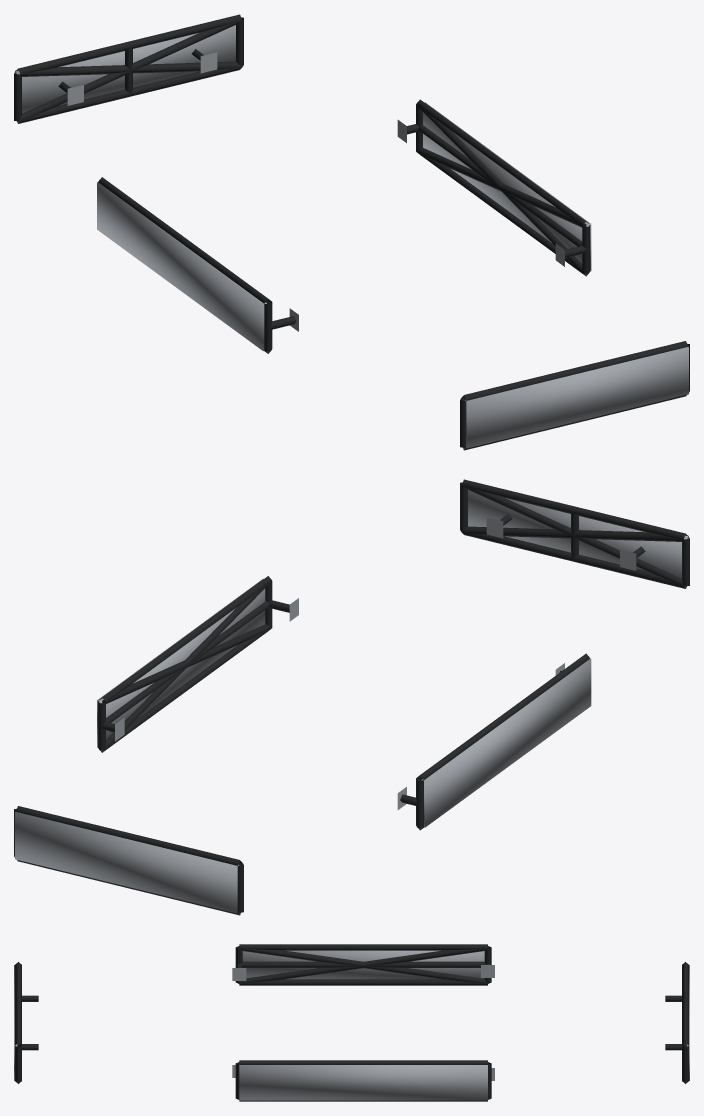
The model's file is bancroft_astrolabio_protecao.glb.
3 views of the same model, one above another, from view 1: azimuth 30°, elevation 25°; view 2: azimuth 150°, elevation 25°; view 3: azimuth 270°, elevation 25° (orthographic). The views are drawn at different scales.
Parts seen in each view (by area): view 1: Protection_front_Level3_Details, Protection_left_Level3_Details, Protection_rear_Level1_Details, Protection_rear_Level3_Details, Protection_right_Level1_Details, Protection_right_Level2_Details, Protection_rear_Level2_Details, Protection_right_Level3_Details, Protection_front_Level1_Details, Protection_left_Level1_Details; view 2: Protection_rear_Level3_Details, Protection_left_Level3_Details, Protection_front_Level1_Details, Protection_front_Level3_Details, Protection_right_Level1_Details, Protection_right_Level2_Details, Protection_front_Level2_Details, Protection_right_Level3_Details, Protection_rear_Level1_Details, Protection_left_Level1_Details; view 3: Protection_right_Level3_Details, Protection_left_Level2_Details, Protection_left_Level1_Details, Protection_left_Level3_Details, Protection_right_Level1_Details, Protection_rear_Level1_Details, Protection_front_Level1_Details.
Part boxes in pixels (x1,y1,x2,y2): Protection_front_Level3_Details: (464, 347, 688, 448); Protection_left_Level3_Details: (97, 182, 266, 350); Protection_rear_Level1_Details: (14, 14, 243, 123); Protection_rear_Level3_Details: (15, 25, 235, 113); Protection_right_Level1_Details: (397, 99, 590, 276); Protection_right_Level2_Details: (416, 105, 589, 275); Protection_rear_Level2_Details: (16, 20, 241, 123); Protection_right_Level3_Details: (423, 102, 591, 271); Protection_front_Level1_Details: (460, 341, 689, 450); Protection_left_Level1_Details: (98, 177, 298, 353); Protection_rear_Level3_Details: (15, 812, 239, 913); Protection_left_Level3_Details: (421, 658, 591, 827); Protection_front_Level1_Details: (460, 479, 689, 588); Protection_front_Level3_Details: (468, 490, 688, 578); Protection_right_Level1_Details: (98, 576, 298, 752); Protection_right_Level2_Details: (99, 581, 271, 752); Protection_front_Level2_Details: (462, 485, 687, 588); Protection_right_Level3_Details: (97, 579, 265, 747); Protection_rear_Level1_Details: (14, 806, 243, 915); Protection_left_Level1_Details: (397, 653, 589, 830); Protection_right_Level3_Details: (239, 1065, 487, 1100); Protection_left_Level2_Details: (239, 947, 488, 983); Protection_left_Level1_Details: (232, 944, 494, 985); Protection_left_Level3_Details: (242, 950, 484, 979); Protection_right_Level1_Details: (232, 1060, 494, 1101); Protection_rear_Level1_Details: (665, 962, 688, 1083); Protection_front_Level1_Details: (15, 962, 38, 1083).
Size of the model in its own units: 2.19 by 0.354 by 5.22.
1 material, 1 textured.
